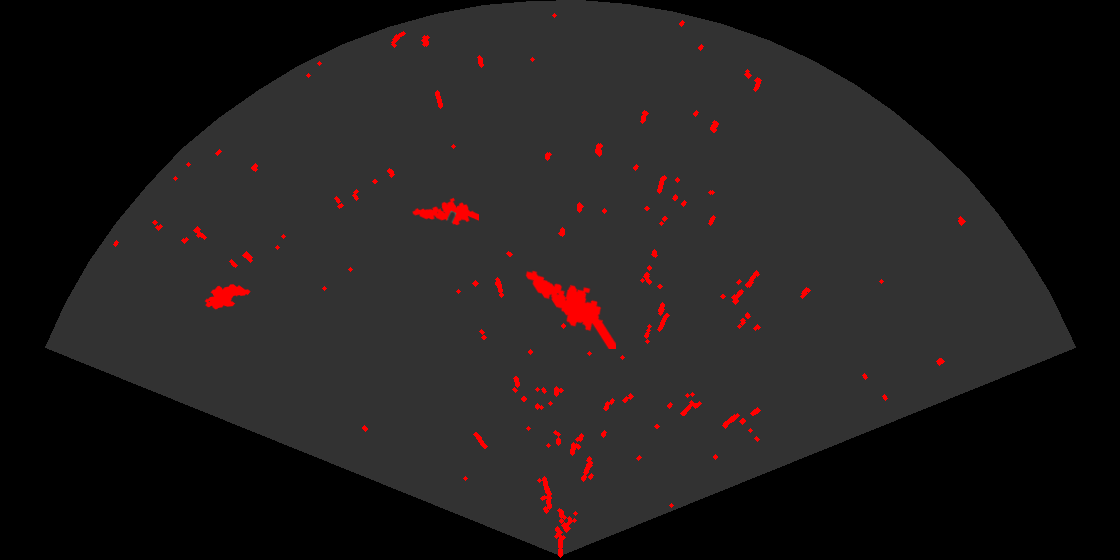AUV: (203, 283, 252, 311)
frogman: (524, 269, 616, 349), (411, 196, 479, 227)
